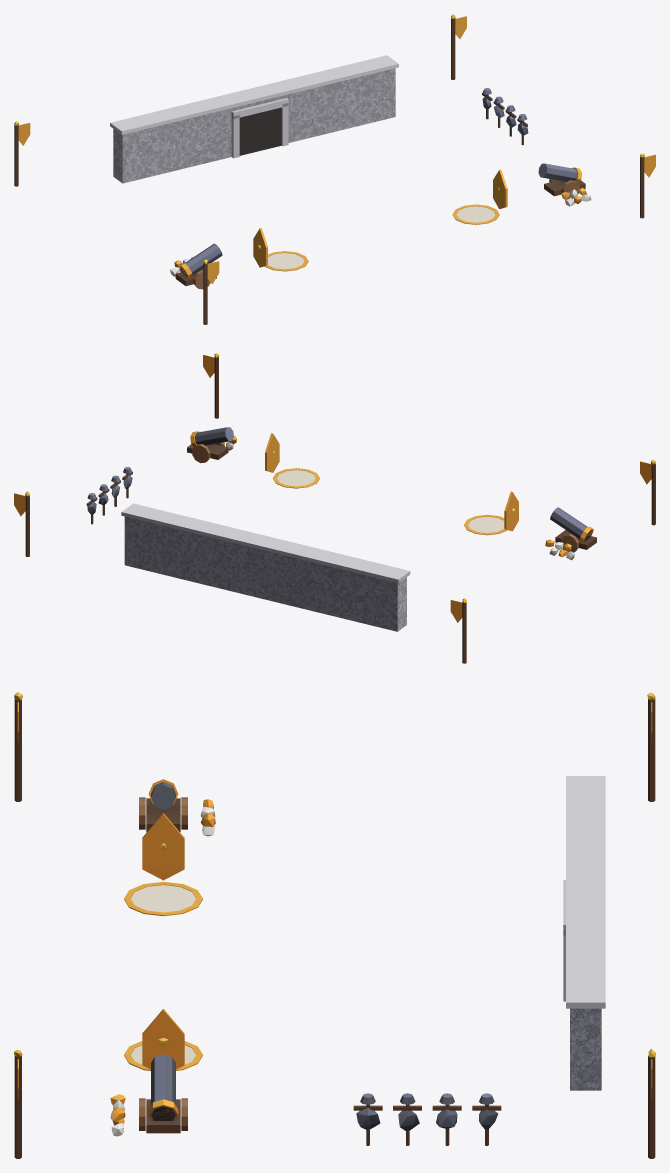
Rendered from area_guard_3_5.fbx.
3 renders of one model, top to bottom at view 1: azimuth 30°, elevation 25°; view 2: azimuth 150°, elevation 25°; view 3: azimuth 270°, elevation 25°, orthographic. The views are drawn at different scales.
Parts seen in each view (by area): view 1: area_guard_3_5_body; view 2: area_guard_3_5_body; view 3: area_guard_3_5_body.
Boxes of the visible parts, x1,y1,x2,y2 form: area_guard_3_5_body: (14,14,655,324); area_guard_3_5_body: (14,353,655,663); area_guard_3_5_body: (14,692,655,1158).
Size of the model in its own units: 16591 by 2308 by 12162.
1 material, 1 textured.
